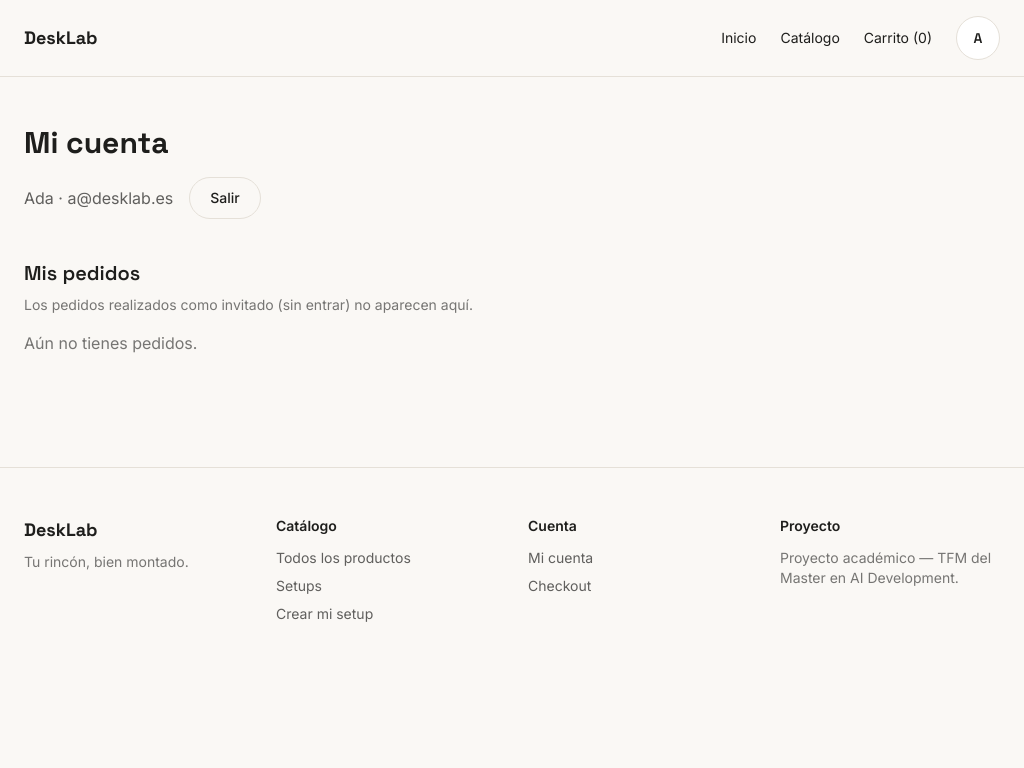
Scenario: AccountMenu › closes with Escape and outside click
This screenshot has width=1024, height=768.
Click the button named "Menú de cuenta".
click(978, 38)  # box top-left (956, 16), bottom-right (1000, 60)
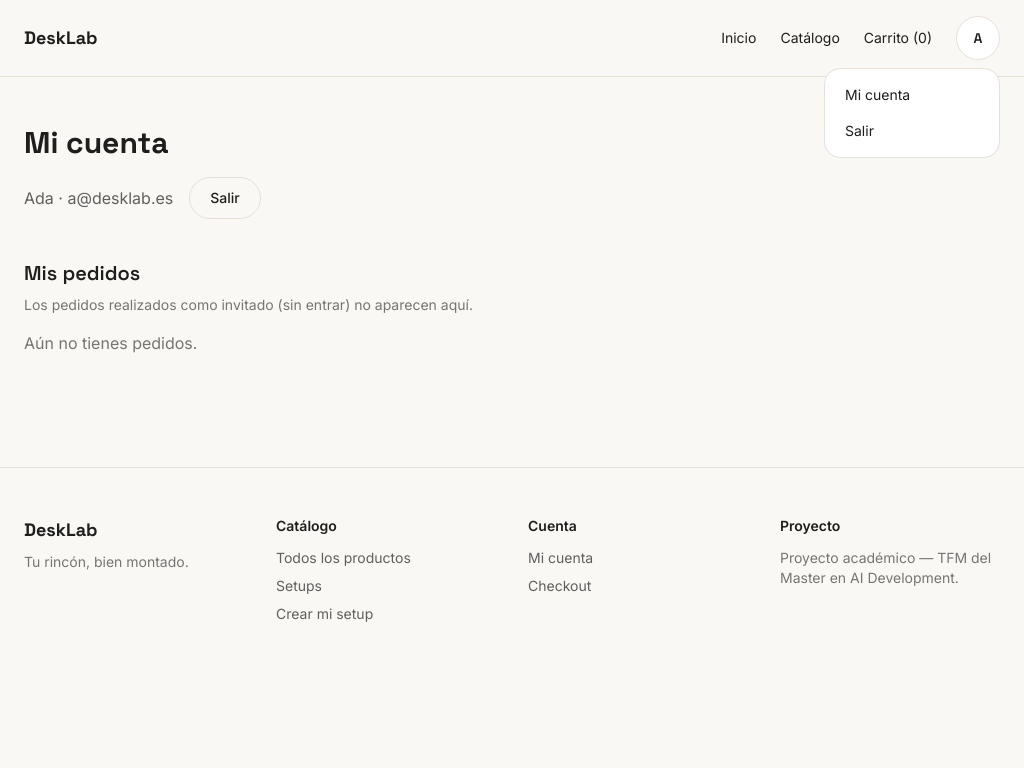
Check: the menu is shown, box top-left (824, 68), bottom-right (1000, 158)
Press Escape
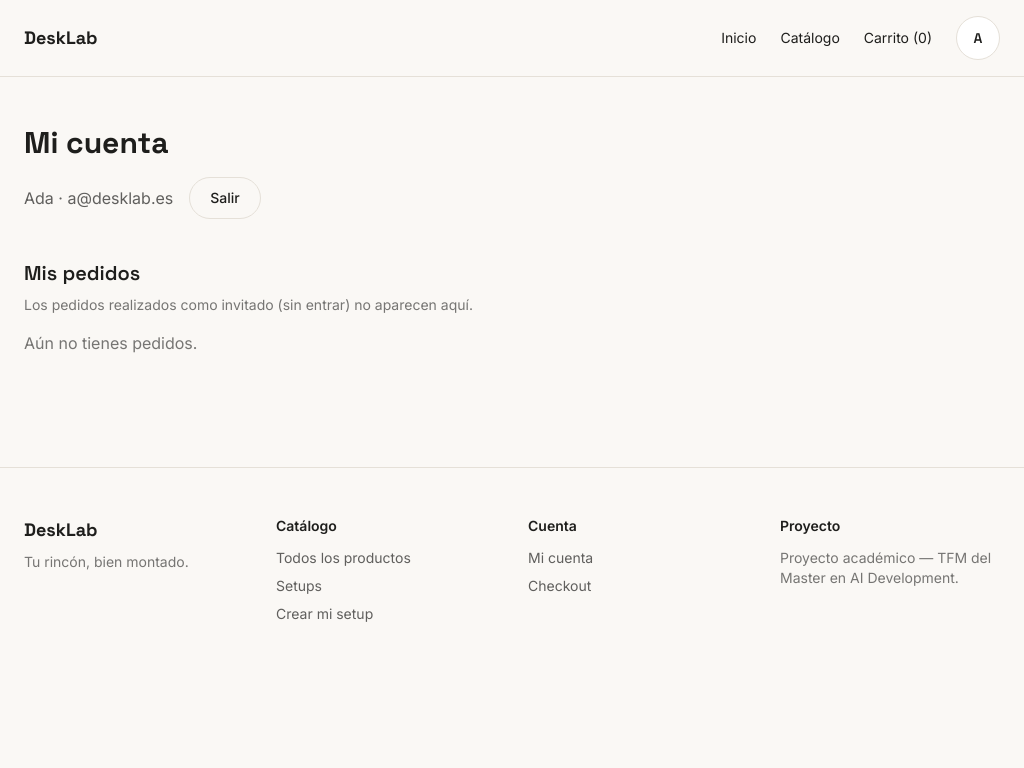
Check: the menu is gone
Click the button named "Menú de cuenta".
click(978, 38)  # box top-left (956, 16), bottom-right (1000, 60)
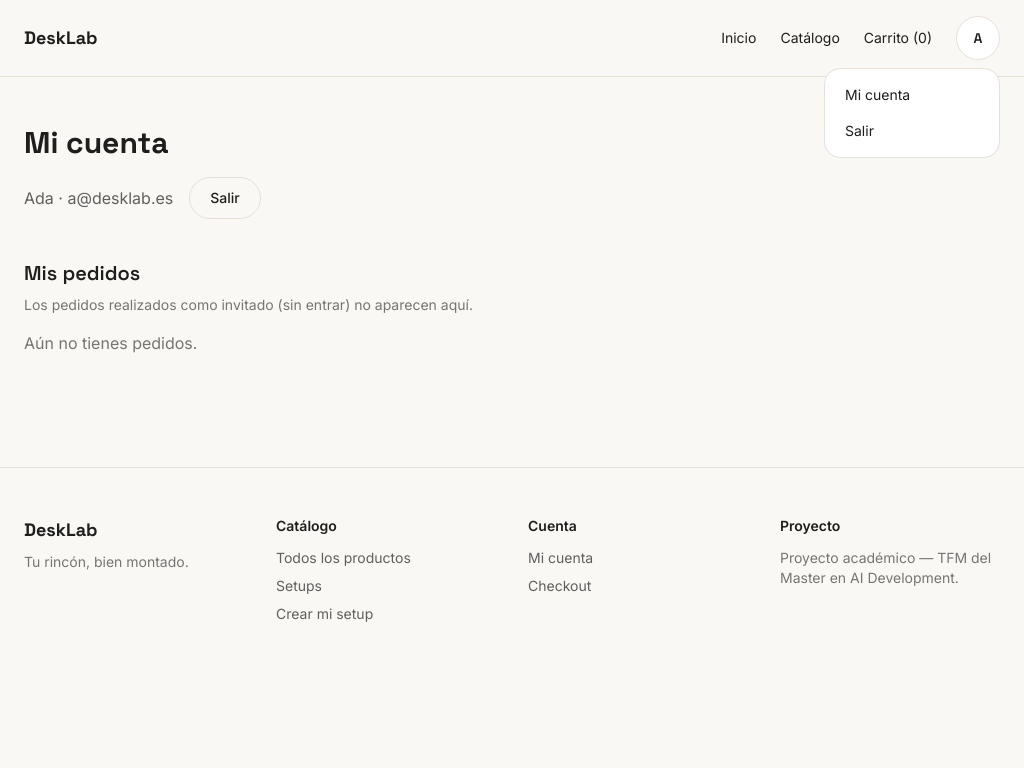
Check: the menu is shown, box top-left (824, 68), bottom-right (1000, 158)
Press the mouse on the element that starts with "DeskLab" at x=512, y=384, box top-left (0, 0), bottom-right (1023, 767)
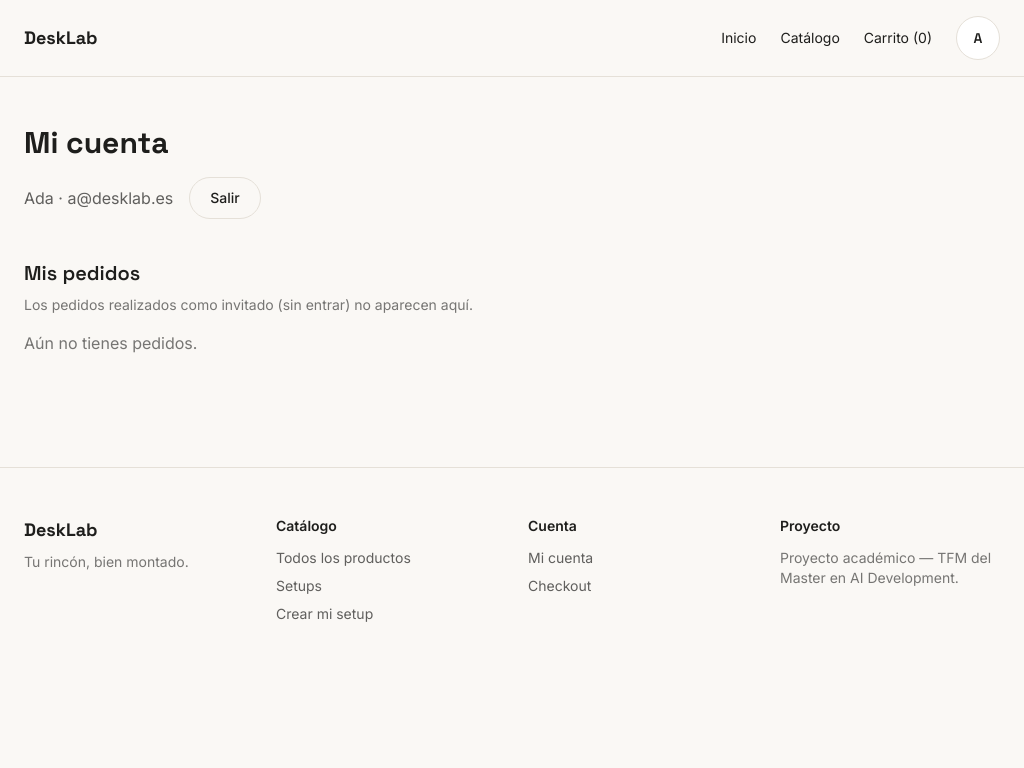
Check: the menu is gone
